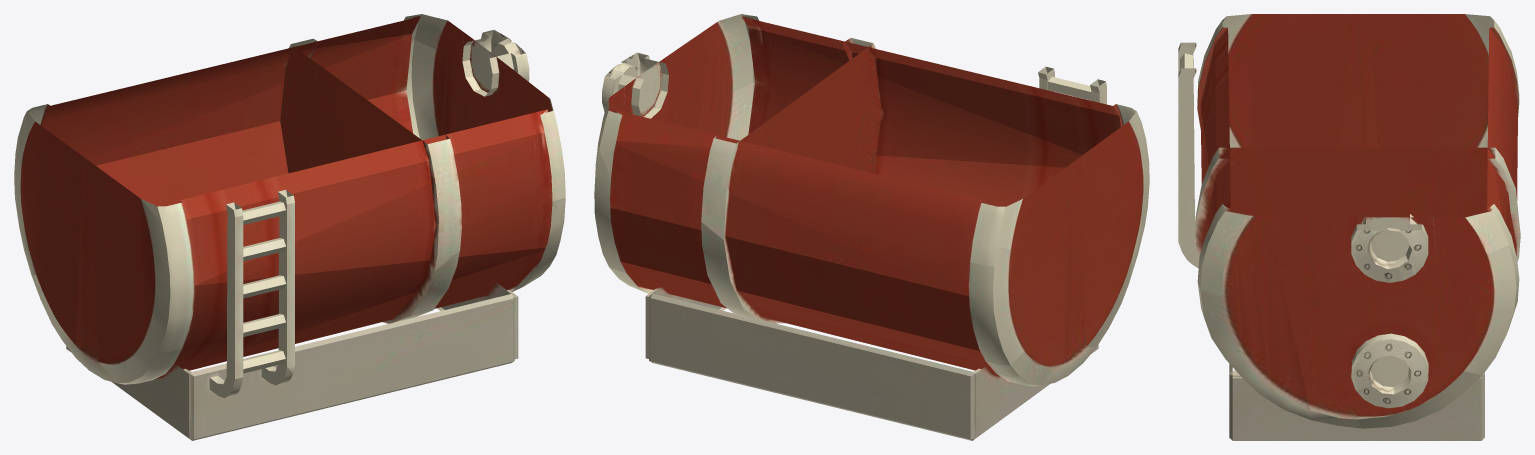
The model's file is covers_cuve_w.glb.
3 views of the same model, side by side, from view 1: azimuth 30°, elevation 25°; view 2: azimuth 150°, elevation 25°; view 3: azimuth 270°, elevation 25° (orthographic).
Visible parts, largest first — view 1: wl_tank_horizontal; view 2: wl_tank_horizontal; view 3: wl_tank_horizontal.
Part boxes in pixels (x1=…): wl_tank_horizontal: x1=14, y1=14, x2=565, y2=440; wl_tank_horizontal: x1=594, y1=14, x2=1149, y2=440; wl_tank_horizontal: x1=1178, y1=14, x2=1520, y2=440.
Bounding box in the file's own units: 4.5 × 2.4 × 3.
1 material, 1 textured.
